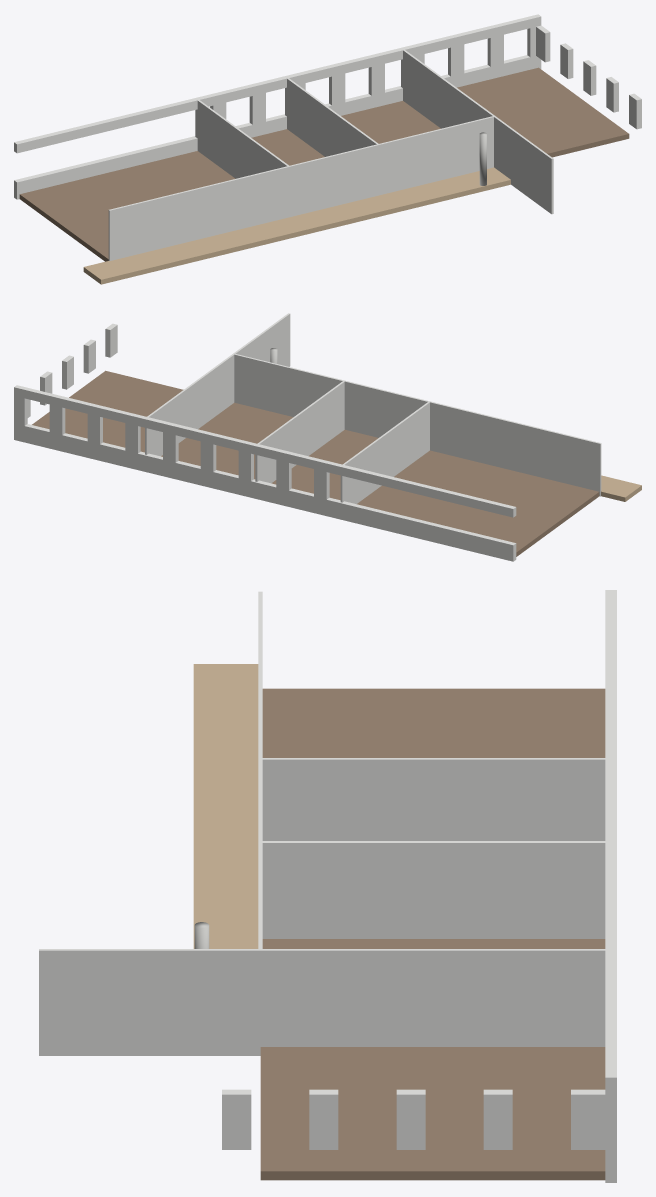
File: SM_Bygg_Helgasetr_P3_O_N.fbx
3 views of the same model, one above another, from view 1: azimuth 30°, elevation 25°; view 2: azimuth 150°, elevation 25°; view 3: azimuth 270°, elevation 25° (orthographic). The views are drawn at different scales.
Visible parts, largest first — view 1: SM_Bygg_Helgasetr_P3_O_N; view 2: SM_Bygg_Helgasetr_P3_O_N; view 3: SM_Bygg_Helgasetr_P3_O_N.
Part boxes in pixels (x1,y1,x2,y2): SM_Bygg_Helgasetr_P3_O_N: (14, 14, 641, 284); SM_Bygg_Helgasetr_P3_O_N: (14, 313, 641, 561); SM_Bygg_Helgasetr_P3_O_N: (39, 590, 616, 1182).
Bounding box in the file's own units: 19.89 × 41.5 × 4.
